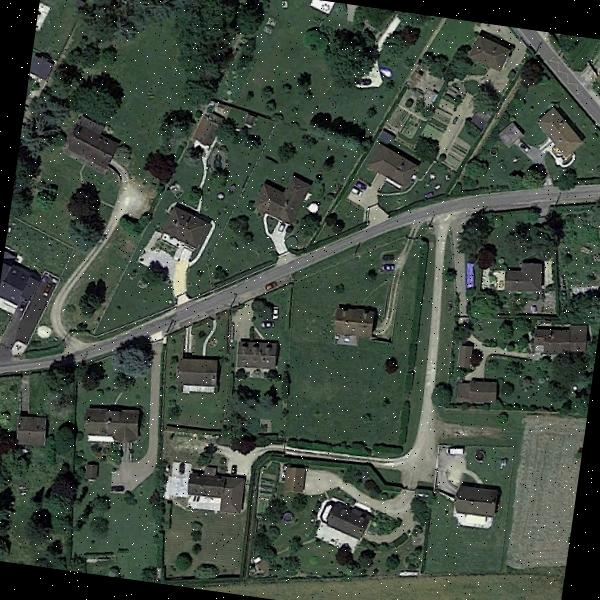Buildings: (184, 468, 247, 519), (151, 208, 209, 258), (66, 120, 124, 168), (0, 252, 42, 312), (85, 400, 139, 438), (451, 482, 501, 519), (262, 179, 306, 218), (503, 262, 546, 301), (540, 108, 578, 150), (466, 35, 507, 70), (535, 325, 586, 352), (232, 337, 279, 364), (321, 504, 363, 534), (369, 150, 413, 178), (180, 358, 219, 386), (336, 310, 372, 335), (460, 382, 494, 402), (18, 418, 46, 442), (590, 43, 600, 104)
